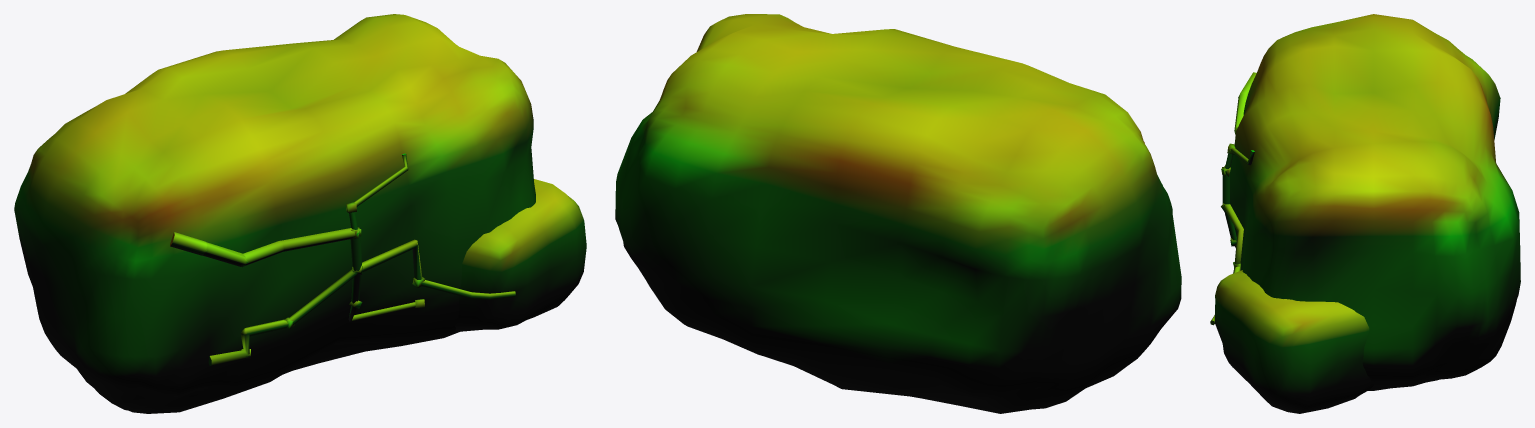
Rendered from copper_outcrop.glb.
The picture shows the model from 3 angles, left to right: view 1: azimuth 30°, elevation 25°; view 2: azimuth 150°, elevation 25°; view 3: azimuth 270°, elevation 25°; orthographic projection. The views are drawn at different scales.
Parts seen in each view (by area): view 1: copper_outcrop; view 2: copper_outcrop; view 3: copper_outcrop.
Part boxes in pixels (bbox=[...]): copper_outcrop: bbox=[14, 14, 586, 413]; copper_outcrop: bbox=[615, 14, 1181, 413]; copper_outcrop: bbox=[1210, 14, 1520, 413].
Size of what is drawn, in the model's own units: 3.76 by 2.12 by 2.26.
